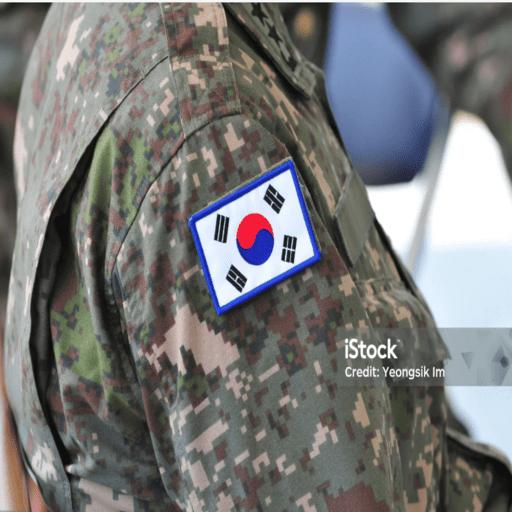korea army: (2, 1, 502, 508)
